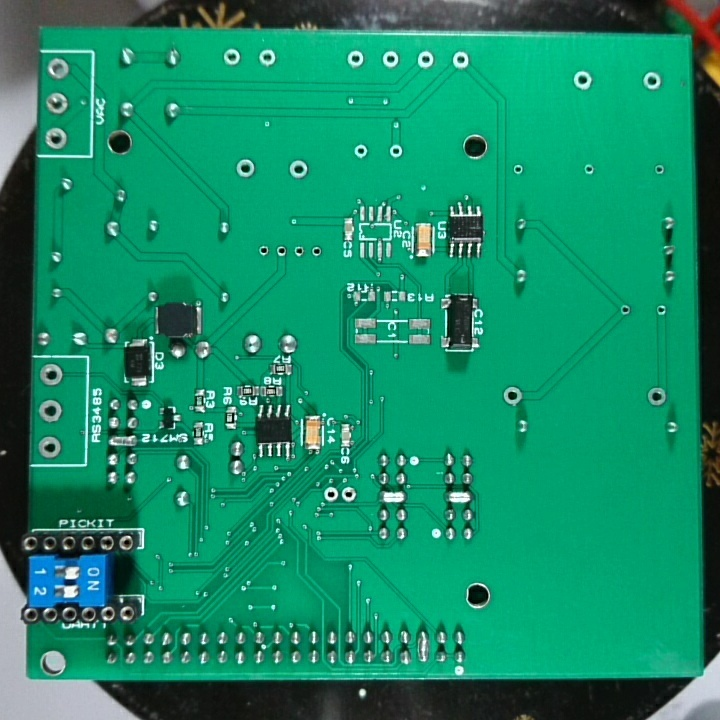F: (36, 360, 66, 390), (43, 56, 74, 84), (36, 434, 65, 462), (43, 90, 70, 120), (37, 398, 64, 425), (43, 126, 70, 152), (450, 48, 476, 74), (645, 384, 672, 409), (641, 69, 664, 98), (258, 43, 279, 74), (570, 69, 596, 94), (347, 46, 370, 74), (414, 46, 437, 74), (233, 158, 260, 181), (502, 383, 524, 409), (287, 158, 310, 182), (223, 43, 244, 69), (382, 48, 402, 72), (321, 483, 339, 507), (339, 483, 357, 507), (387, 143, 407, 163), (351, 143, 371, 162), (580, 160, 599, 179), (309, 242, 324, 266), (257, 242, 273, 262), (274, 242, 289, 263), (291, 241, 306, 262), (654, 302, 669, 320), (619, 302, 633, 321), (511, 162, 527, 178), (651, 160, 666, 177)
P: (415, 625, 431, 666), (104, 432, 142, 449), (444, 486, 476, 505), (378, 489, 410, 506)
